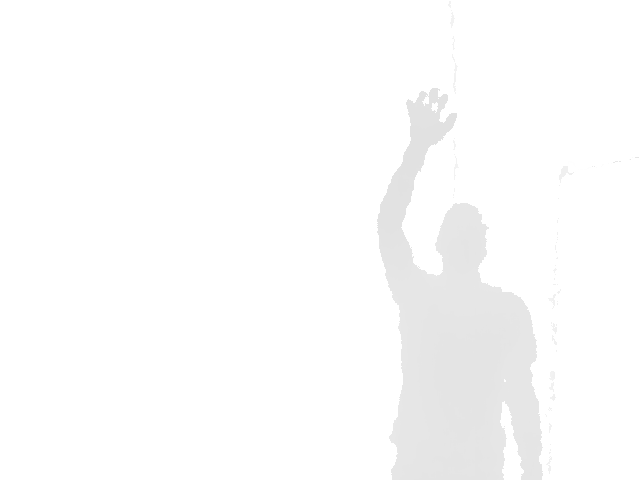hand: (404, 87, 458, 147)
head: (435, 203, 488, 281)
person: (376, 87, 545, 480)
